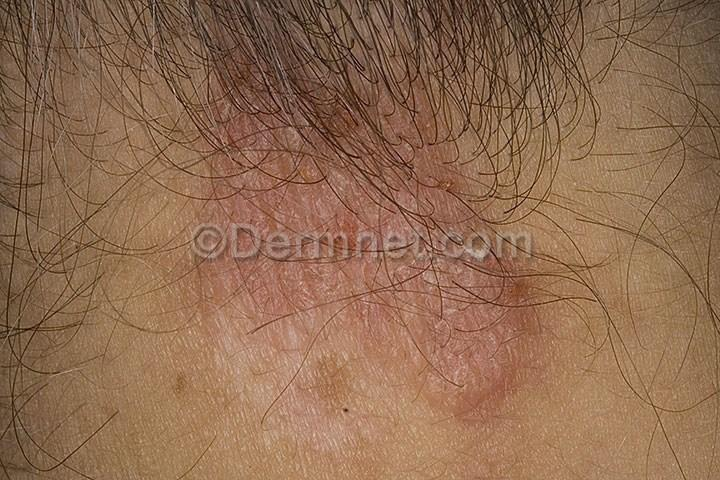Eczema: (367, 265, 570, 466), (192, 260, 362, 435), (324, 91, 483, 230), (192, 73, 311, 225)
